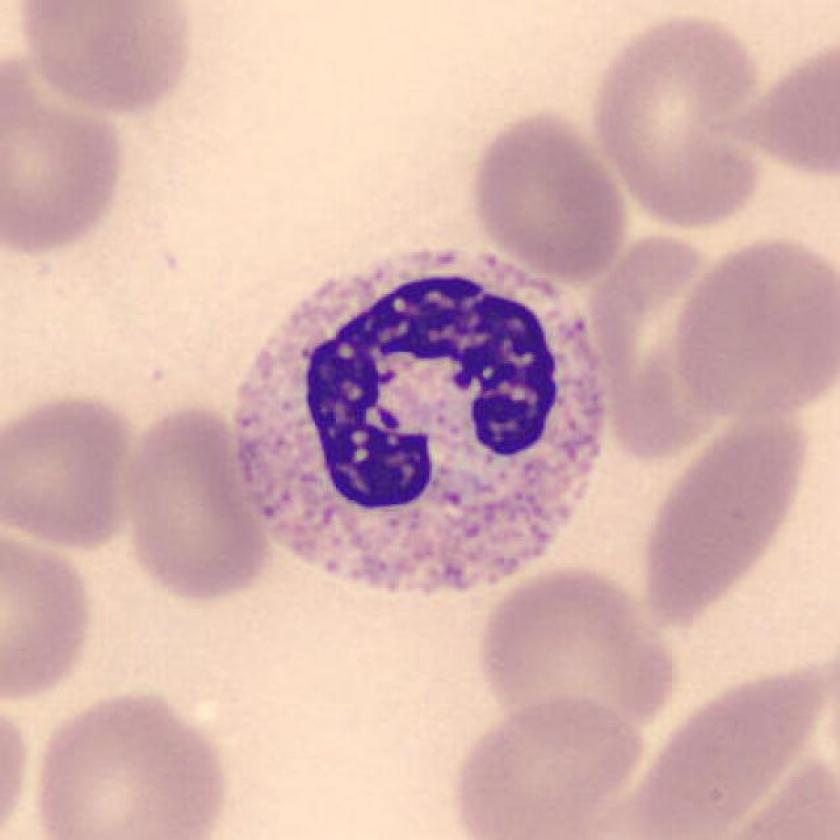neutrophil: (231, 249, 606, 593)
